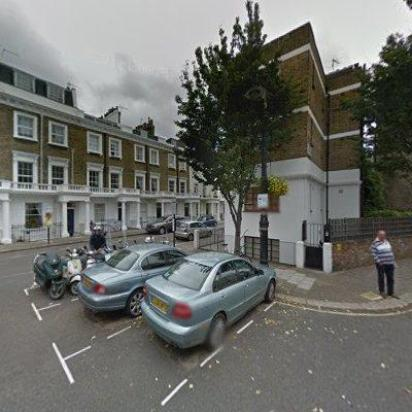stationary-car-onstreet: (140, 248, 278, 352), (72, 241, 198, 321), (144, 213, 186, 236), (174, 220, 214, 242), (194, 214, 218, 228)
stationary-motorcycle-onstreet: (31, 246, 65, 302), (90, 220, 127, 264), (54, 248, 84, 296), (72, 245, 96, 275)
